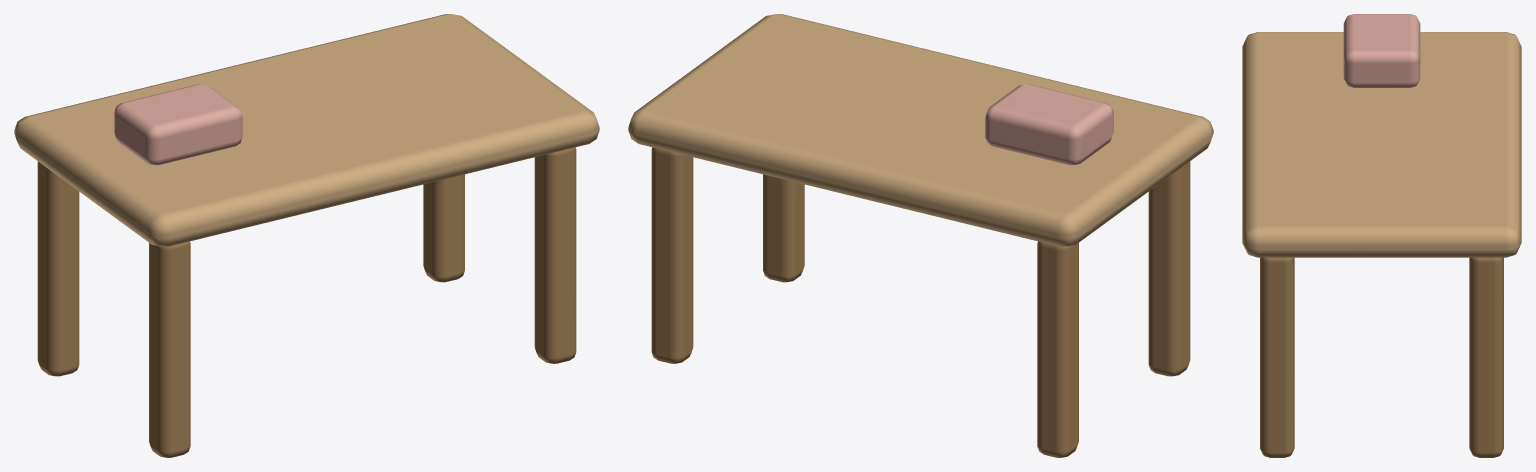
Rendered from table.glb.
3 views of the same model, side by side, from view 1: azimuth 30°, elevation 25°; view 2: azimuth 150°, elevation 25°; view 3: azimuth 270°, elevation 25° (orthographic). The views are drawn at different scales.
Size of the model in its own units: 1.4 by 0.87 by 0.8.
